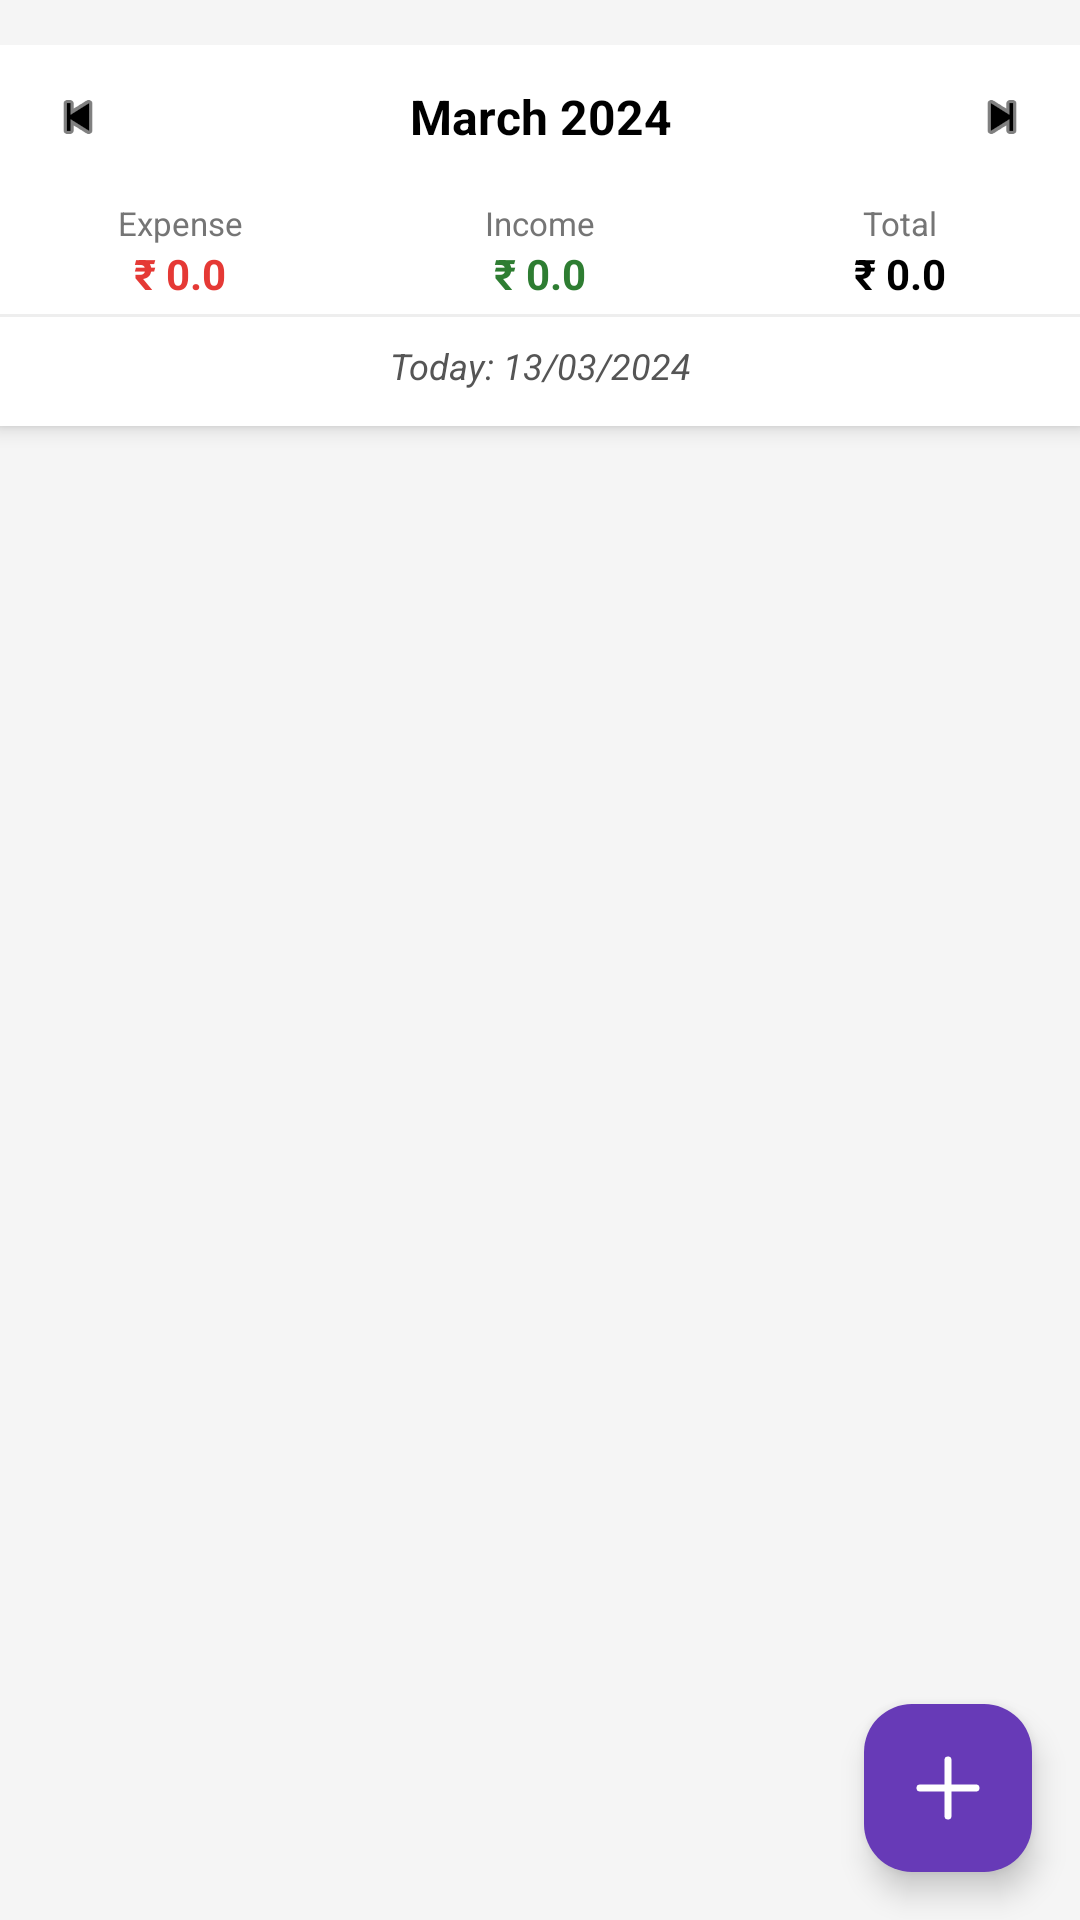

Named icons in this screenshot (1080 × 1920) and their centers, (x,y):
next: (1002,117)
plus: (948,1788)
previous: (78,117)
